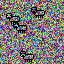sheep: (6, 13, 20, 25), (13, 21, 27, 33), (31, 7, 45, 18), (20, 51, 34, 62)
